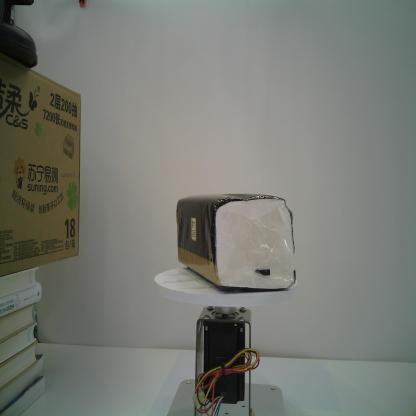Tissue: (176, 195, 296, 292)
